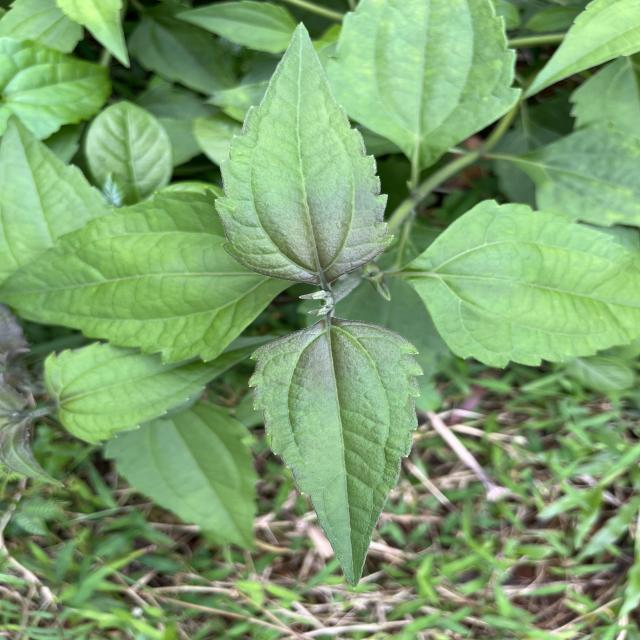Chromolaena odorata: (242, 314, 428, 594), (210, 19, 398, 286)
